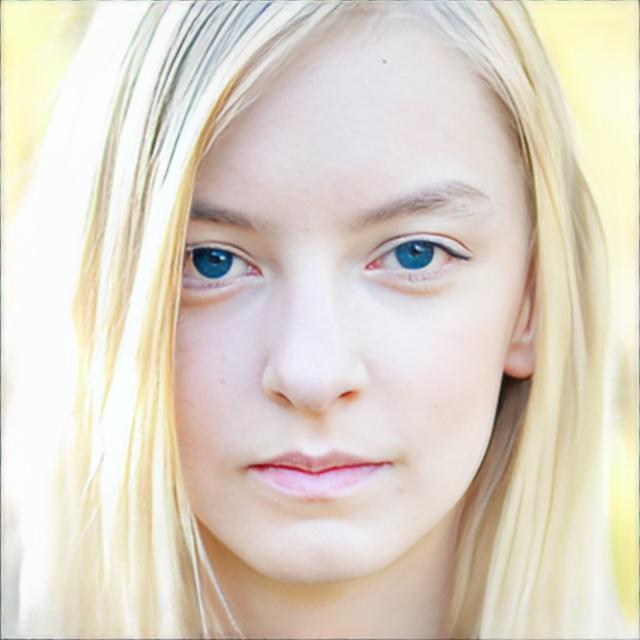content: (166, 15, 530, 582)
